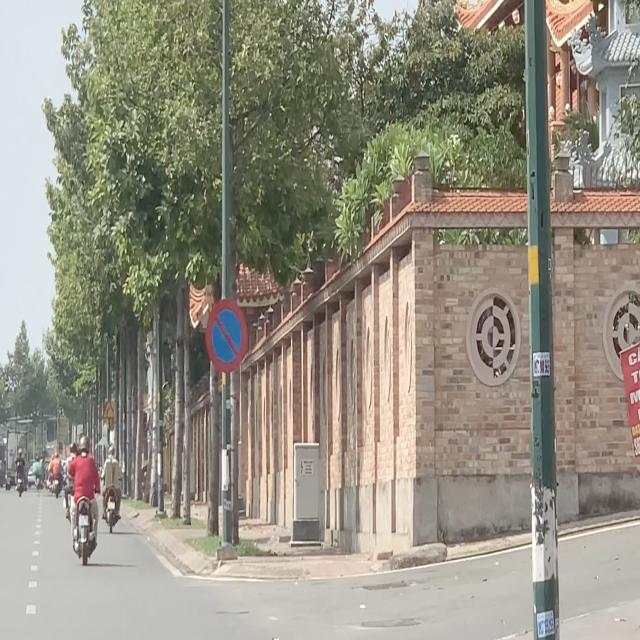Cam do: (203, 301, 250, 378)
Nguy hiem: (102, 399, 115, 425)
